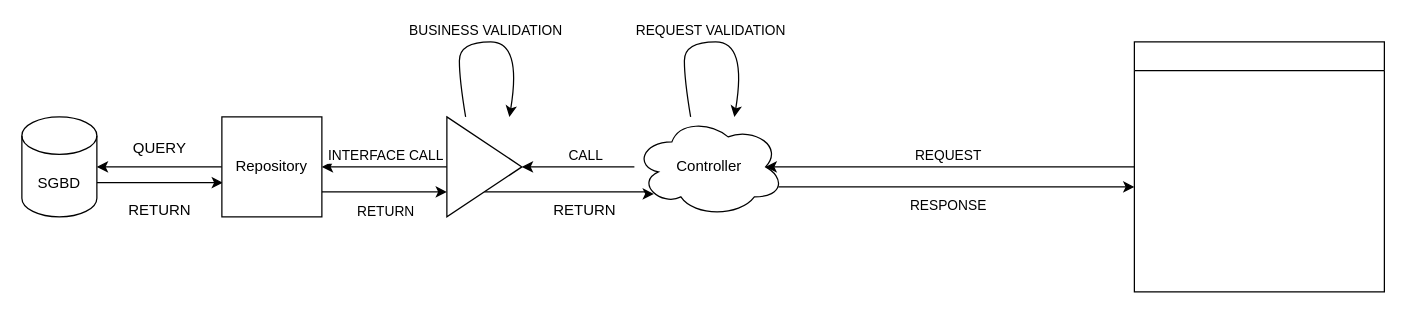
This 1406x314 diagram has some shape labels left out. Here are the shapes that lost their labels. From the top down, the centre of each, then its label:
pixel 484 166: Service
pixel 1258 166: Front-end
